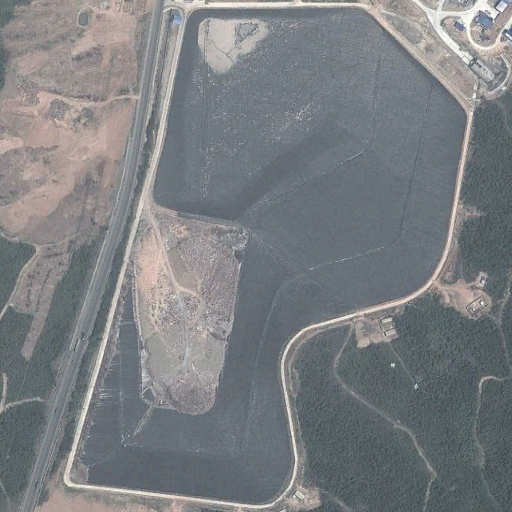lf: (58, 7, 468, 512)
